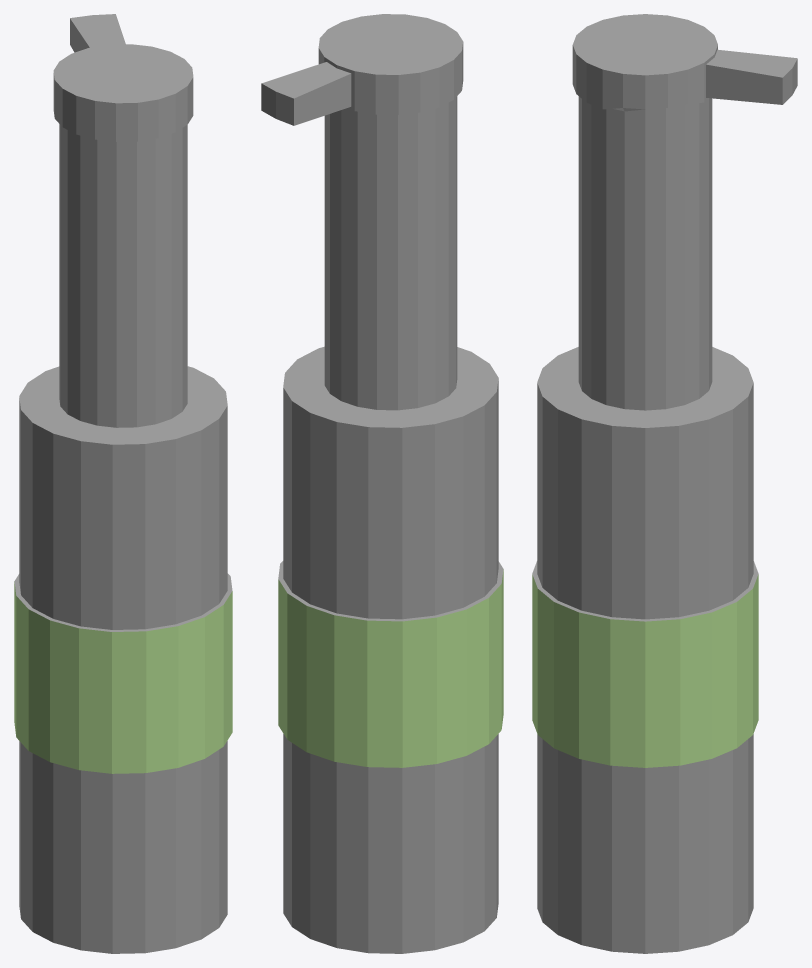
The model's file is Syrup Bottle VR.fbx.
The picture shows the model from 3 angles, left to right: view 1: azimuth 30°, elevation 25°; view 2: azimuth 150°, elevation 25°; view 3: azimuth 270°, elevation 25°; orthographic projection. The views are drawn at different scales.
Visible parts, largest first — view 1: pCylinder12; view 2: pCylinder12; view 3: pCylinder12.
Boxes of the visible parts, x1,y1,x2,y2 form: pCylinder12: [14, 14, 232, 953]; pCylinder12: [261, 14, 503, 953]; pCylinder12: [532, 14, 797, 953].
Bounding box in the file's own units: 13.85 × 58.28 × 16.24.
